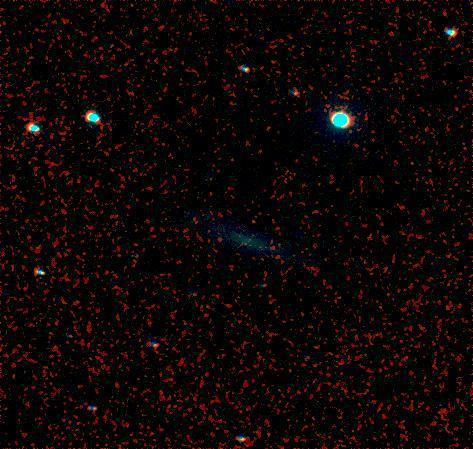star: (240, 205, 270, 235)
